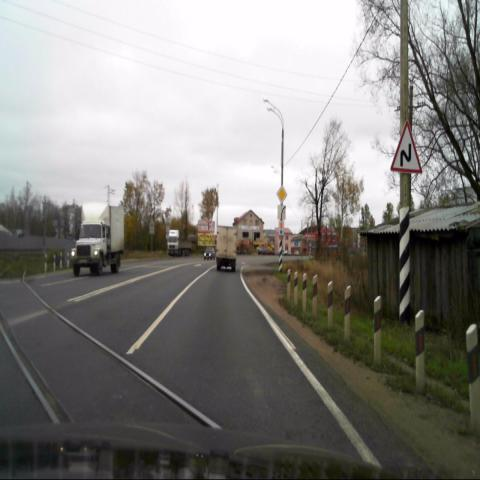1_12: (390, 120, 422, 174)
